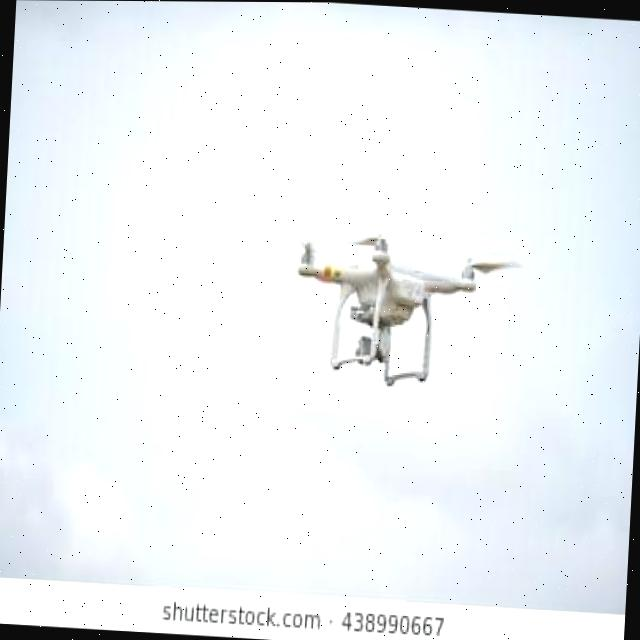drone: (274, 212, 532, 418)
